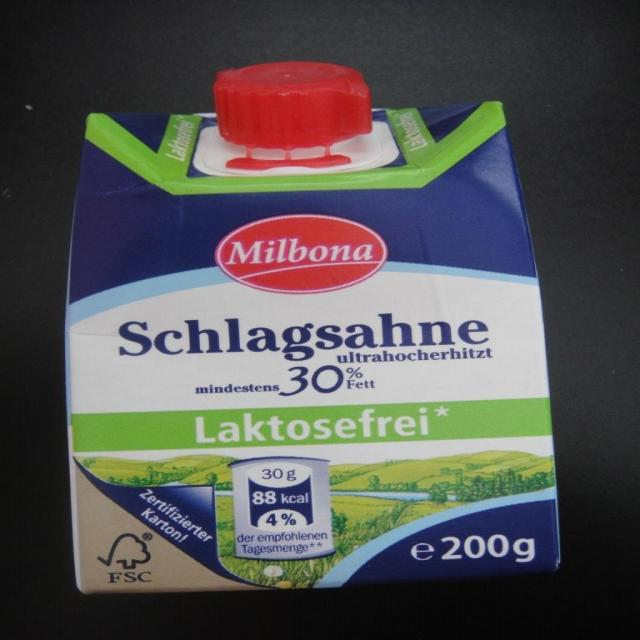cream: (67, 62, 558, 592)
